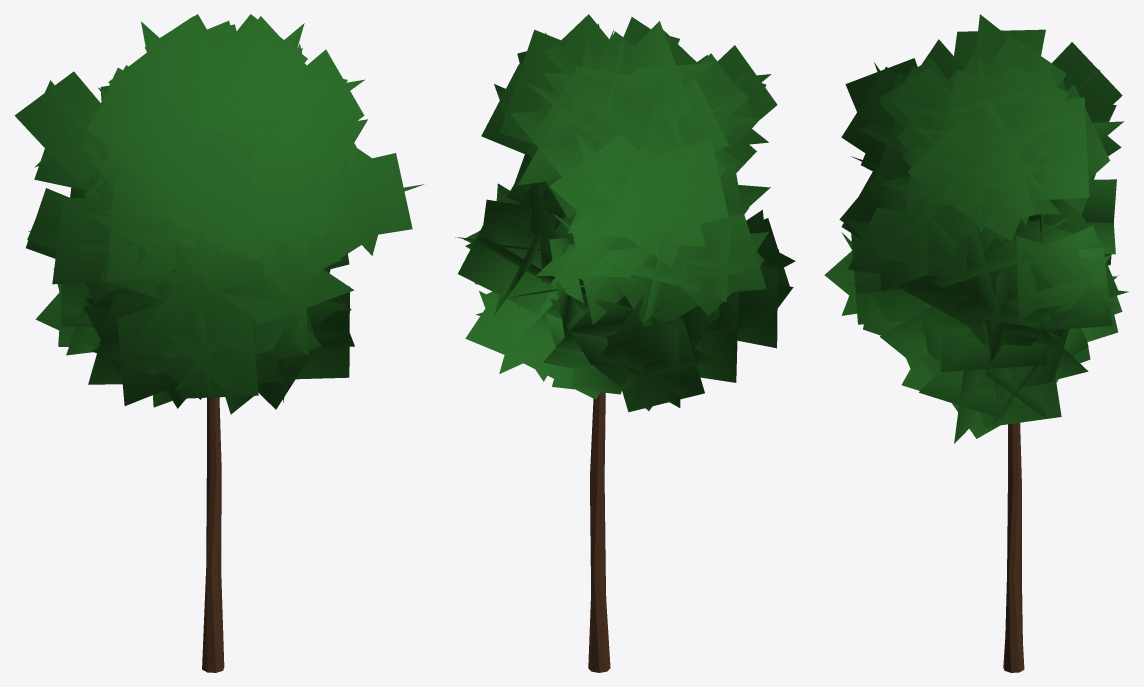
Rendered from SM_tree_01.fbx.
The picture shows the model from 3 angles, left to right: view 1: azimuth 30°, elevation 25°; view 2: azimuth 150°, elevation 25°; view 3: azimuth 270°, elevation 25°; orthographic projection. The views are drawn at different scales.
Parts seen in each view (by area): view 1: Line014; view 2: Line014; view 3: Line014.
Boxes of the visible parts, left/top/right/bottom form: Line014: left=14, top=14, right=423, bottom=672; Line014: left=455, top=14, right=795, bottom=672; Line014: left=824, top=14, right=1128, bottom=672.
Bounding box in the file's own units: 156 × 312 × 136.
